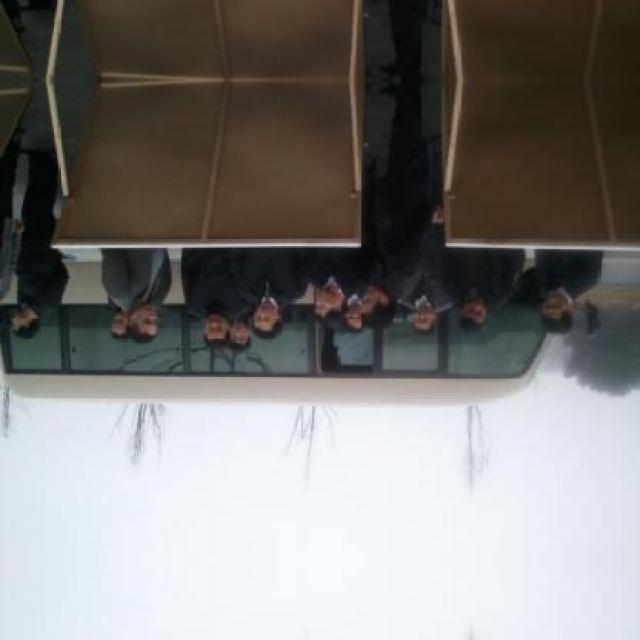sin casco: (526, 266, 614, 347), (100, 275, 170, 364), (349, 266, 405, 337), (301, 271, 359, 339), (385, 292, 448, 352), (232, 296, 284, 354), (439, 281, 482, 347), (185, 307, 231, 355), (220, 318, 252, 367)
